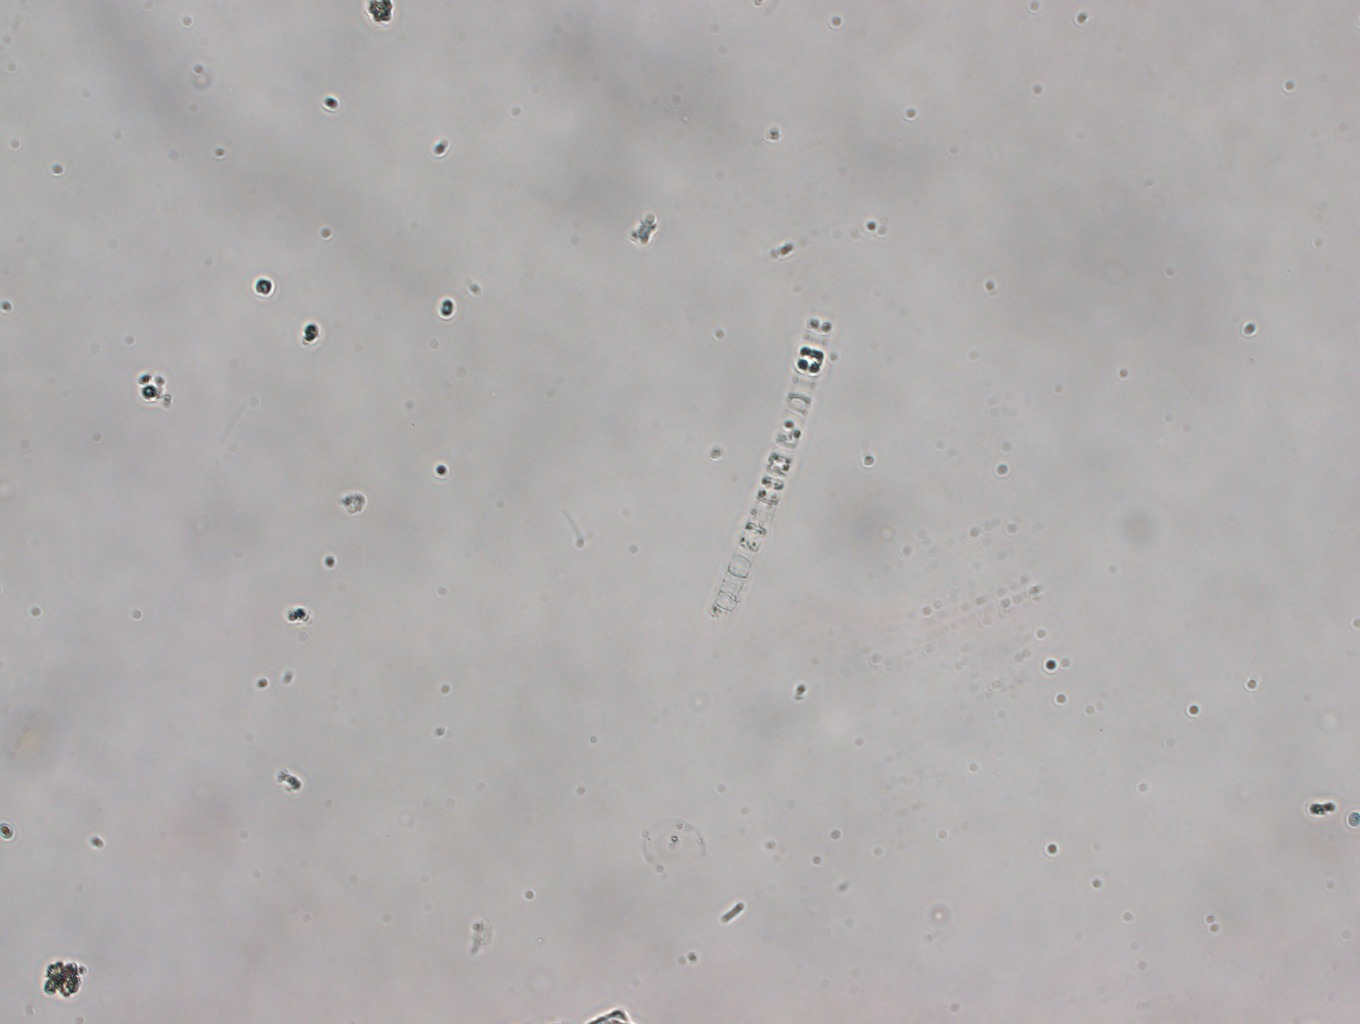skeletonema: (703, 314, 832, 617)
